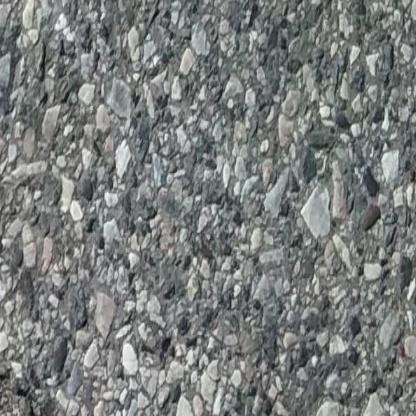Cracks: (0, 348, 66, 416)
